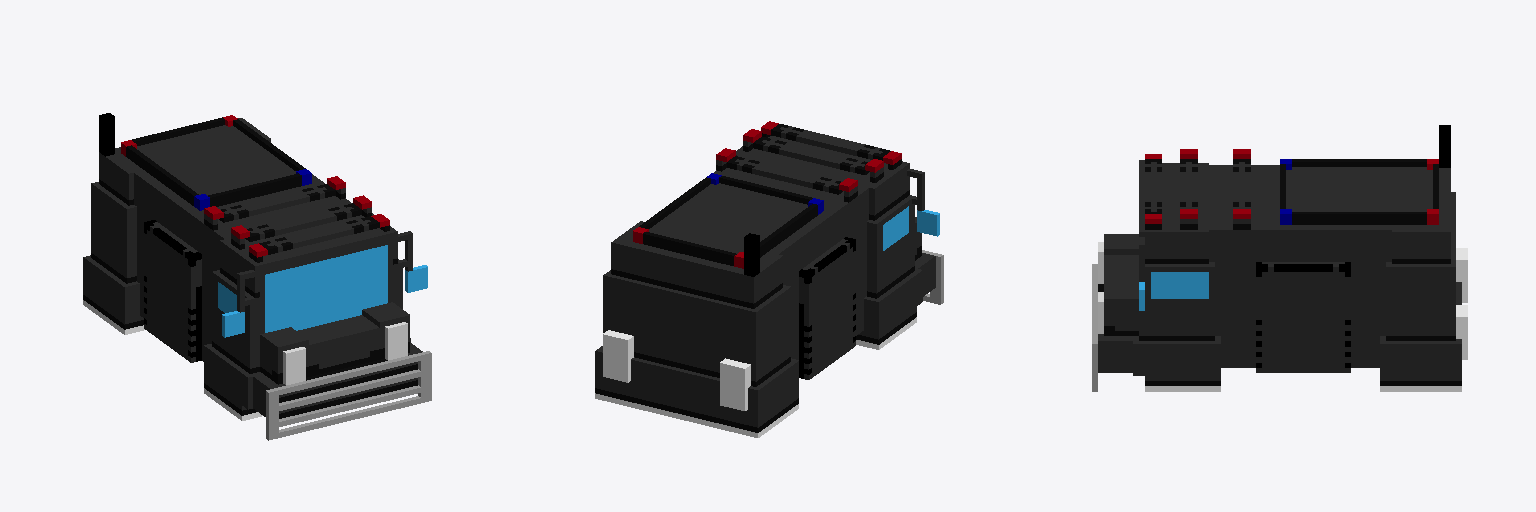
3 renders of one model, left to right at view 1: azimuth 30°, elevation 25°; view 2: azimuth 150°, elevation 25°; view 3: azimuth 270°, elevation 25°, orthographic.
Parts seen in each view (by area): view 1: Car3; view 2: Car3; view 3: Car3.
Boxes of the visible parts, x1=… form: Car3: x1=83, y1=113, x2=431, y2=440; Car3: x1=595, y1=121, x2=943, y2=437; Car3: x1=1092, y1=125, x2=1467, y2=391.
Bounding box in the file's own units: 2.52 × 2.27 × 4.03.
Materials: 1 (1 with a texture image).